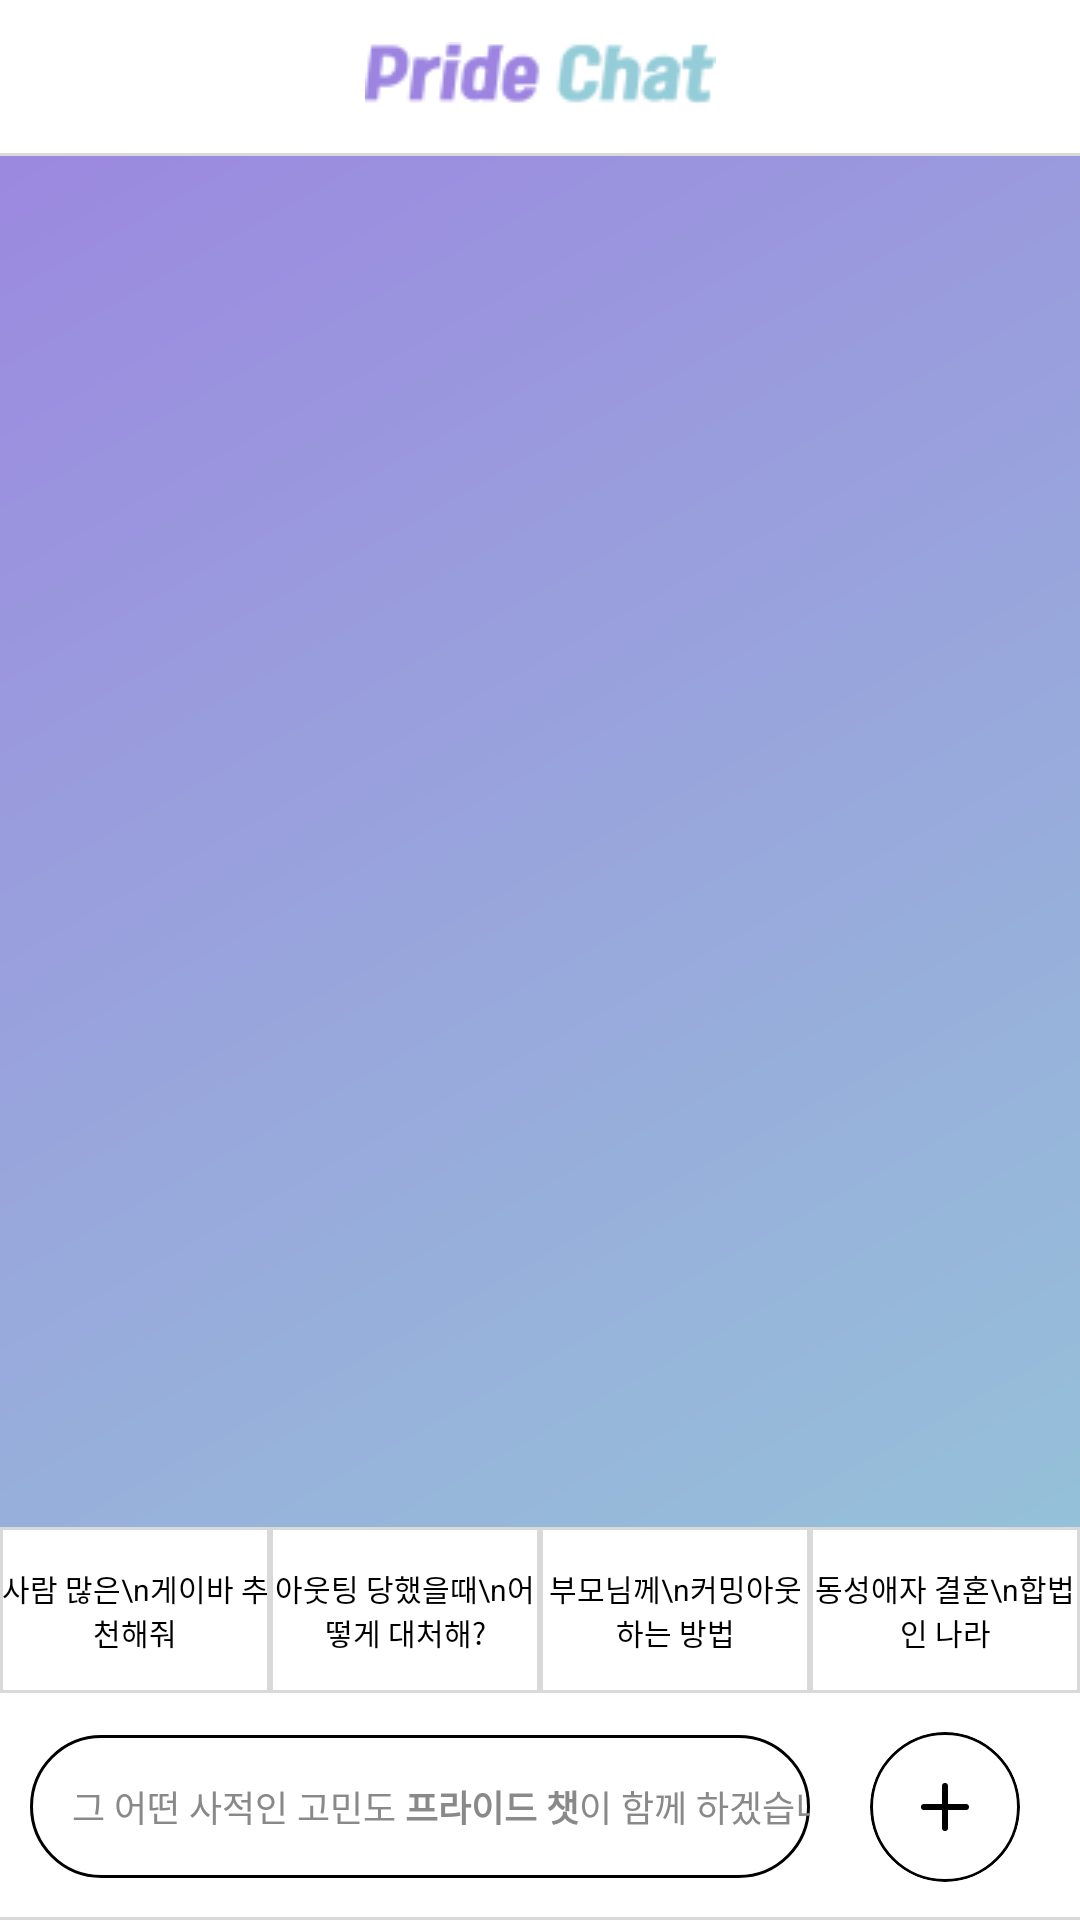

Icon bounding boxes for this 1080 x 1920 phone screenshot, format rect(x1, y1, x2, y2):
plus: rect(921, 1783, 969, 1831)
